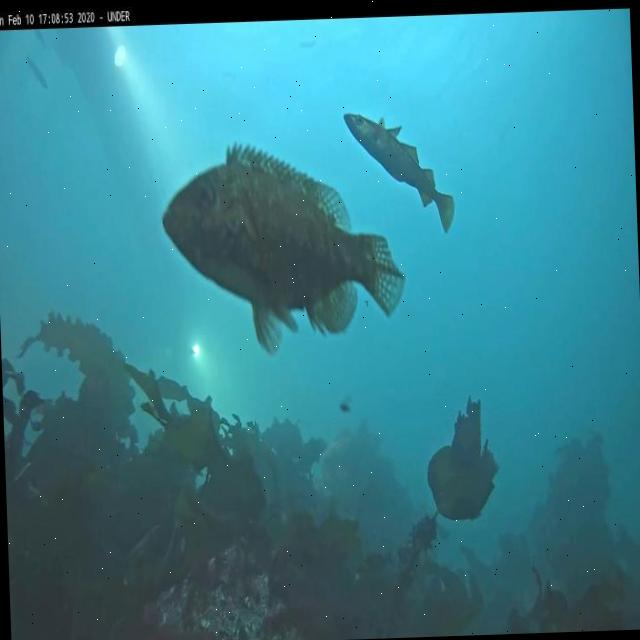fish: (159, 136, 407, 356), (343, 108, 455, 238), (24, 52, 47, 89)
